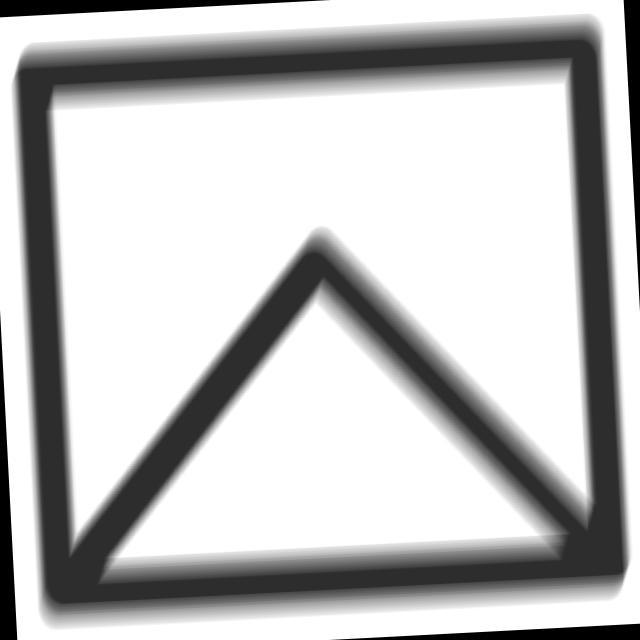letter: (3, 6, 640, 629)
